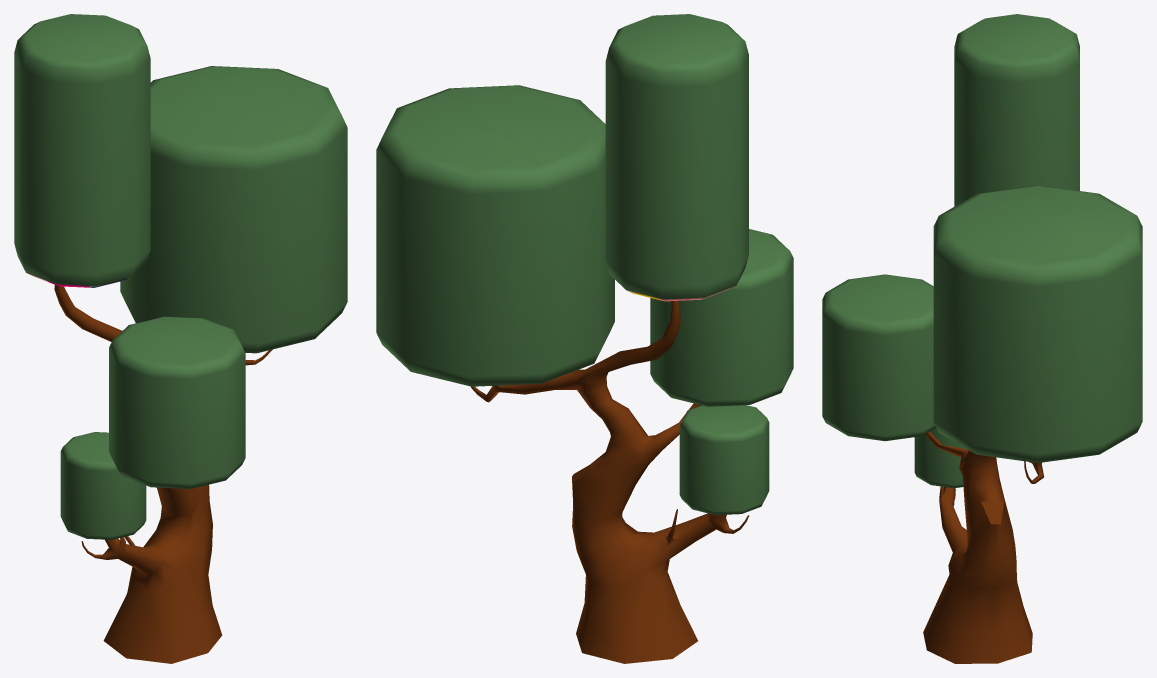
File: SM_Tree_15.fbx
3 renders of one model, left to right at view 1: azimuth 30°, elevation 25°; view 2: azimuth 150°, elevation 25°; view 3: azimuth 270°, elevation 25°, orthographic. The views are drawn at different scales.
Parts seen in each view (by area): view 1: SM_Tree_15; view 2: SM_Tree_15; view 3: SM_Tree_15.
Part boxes in pixels (x1,y1,x2,y2): SM_Tree_15: (14,14,347,663); SM_Tree_15: (376,14,793,663); SM_Tree_15: (822,14,1142,663).
Size of the model in its own units: 770 by 1376 by 693.
